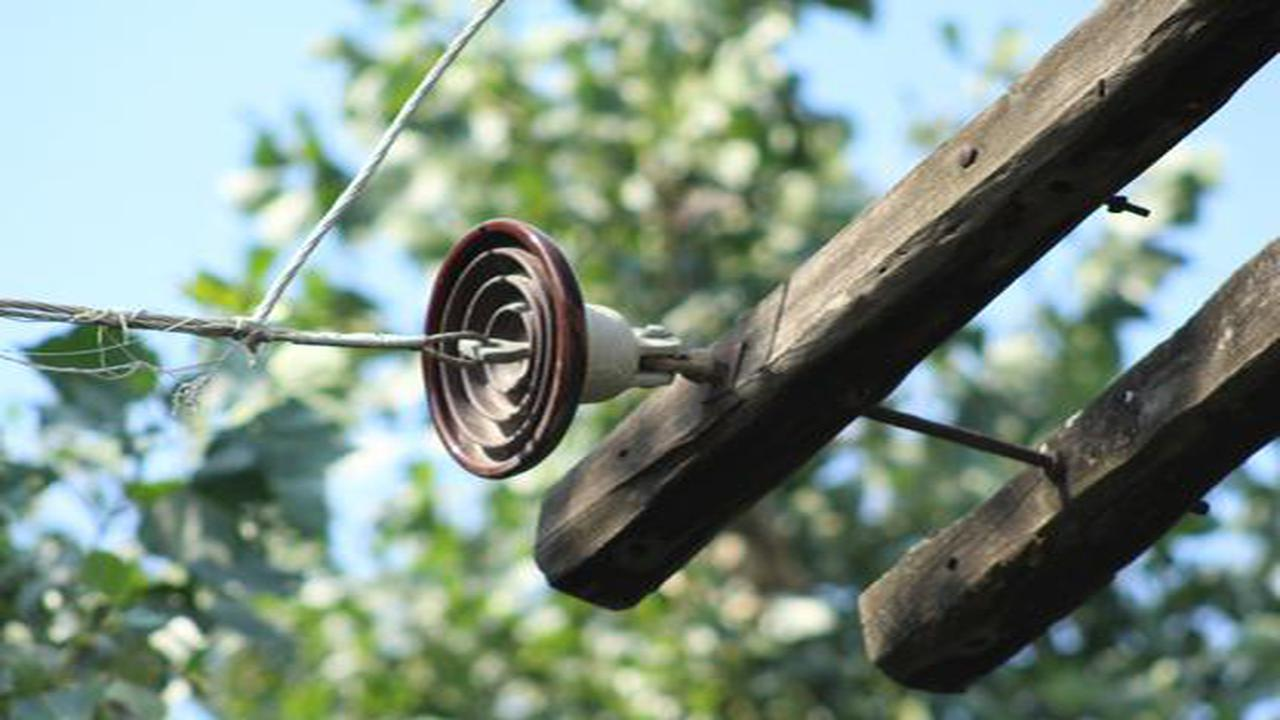insulator_disc: (414, 213, 694, 498)
